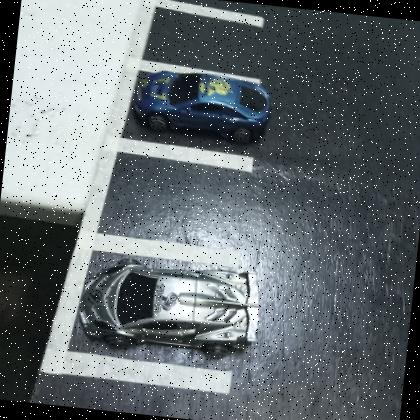Car: (79, 265, 258, 349), (131, 68, 271, 145)
